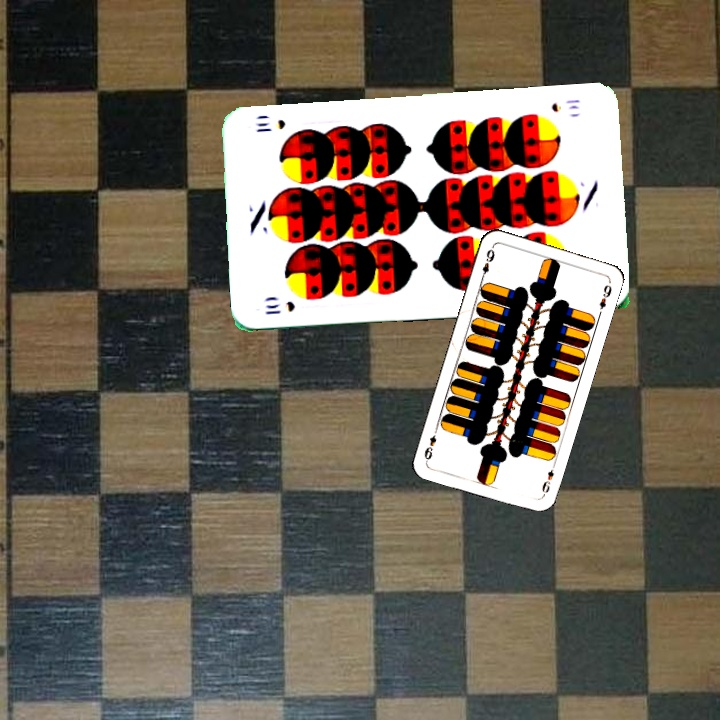E9: (477, 243, 497, 283), (538, 460, 558, 499)
S10: (261, 297, 298, 317), (547, 95, 582, 115)
